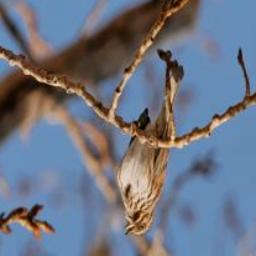Sparrow: (115, 59, 186, 241)
